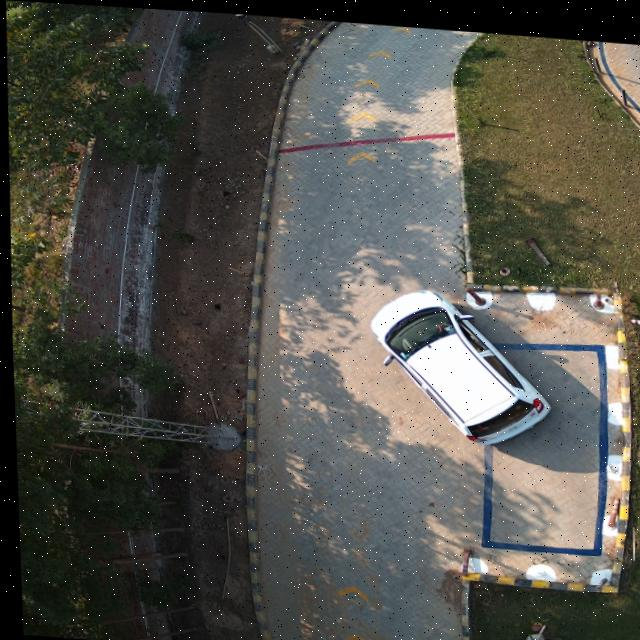car: (369, 283, 547, 437)
